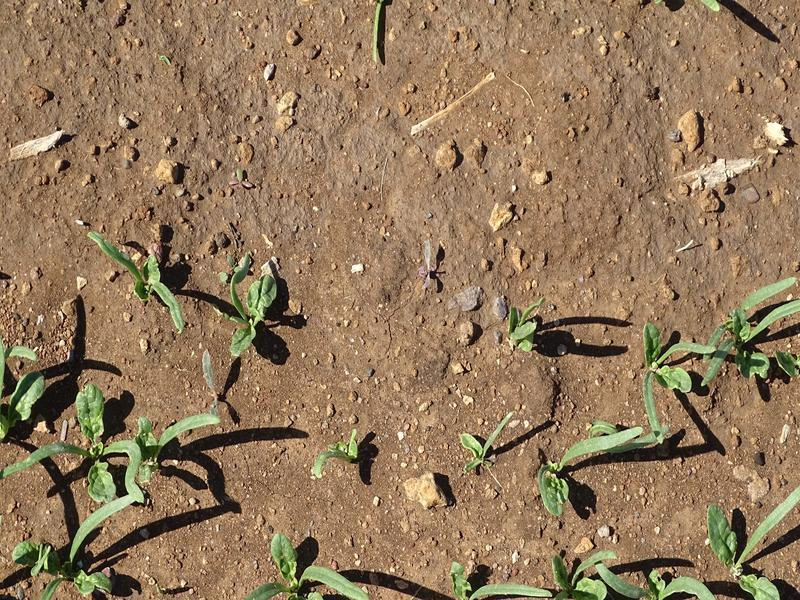Espinaca: (3, 381, 226, 600), (642, 275, 800, 422), (447, 547, 782, 600), (539, 425, 680, 509), (82, 230, 187, 334), (240, 535, 361, 600), (215, 259, 278, 354), (464, 409, 509, 476), (510, 298, 547, 351)
